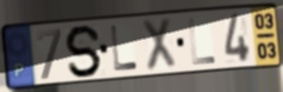4: (222, 11, 252, 65)
7: (35, 28, 63, 81)
L: (108, 24, 140, 73), (187, 17, 217, 67)
S: (64, 24, 104, 80)
X: (140, 16, 178, 73)
